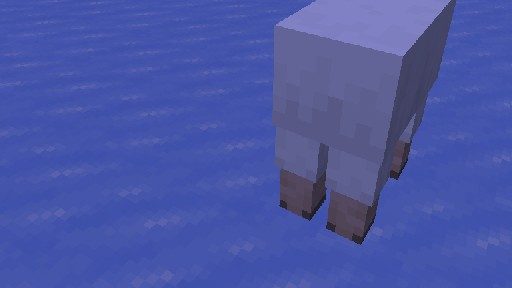sheep: (271, 0, 458, 245)
